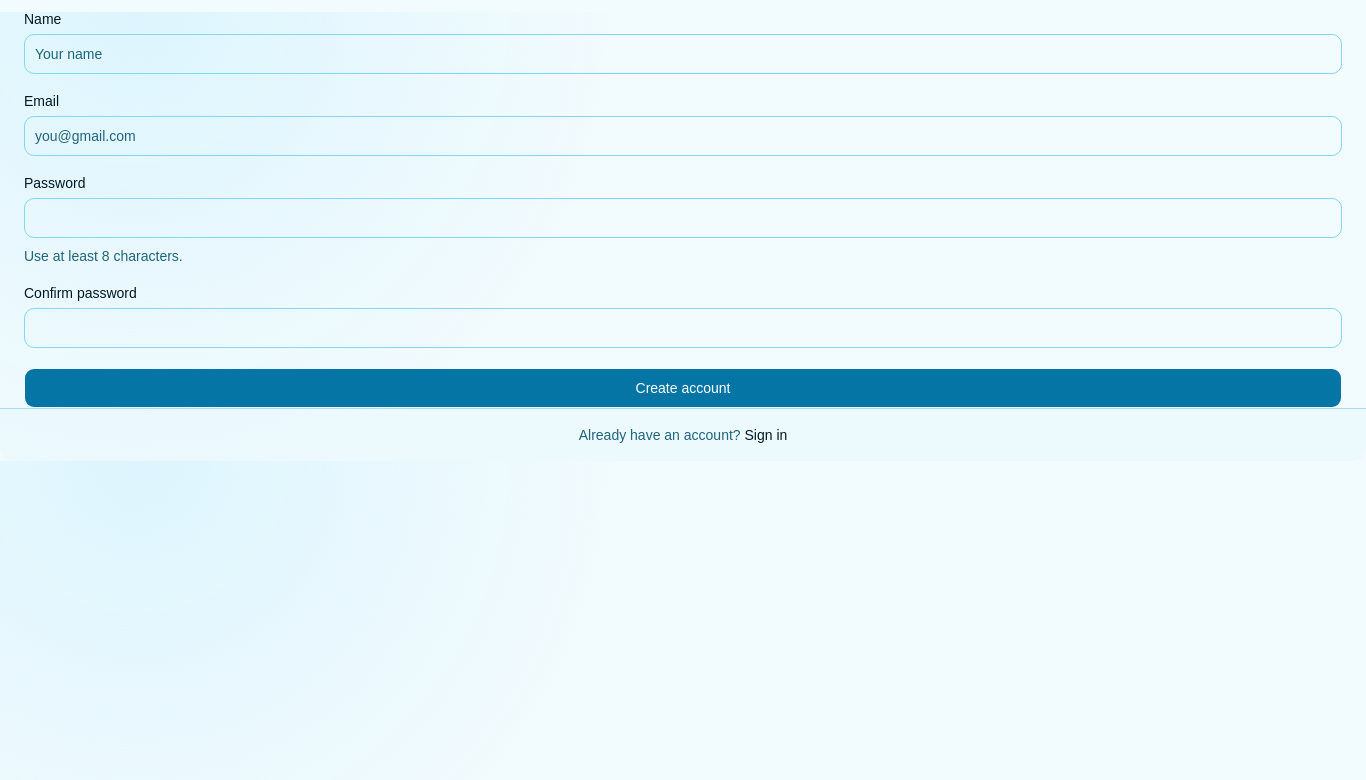
Test: AuthForm › Register mode › validates required confirm password field
Type "test@example.com" into the field labelled "Email".
click(683, 136); type("test@example.com")  # box [24, 116, 1342, 156]
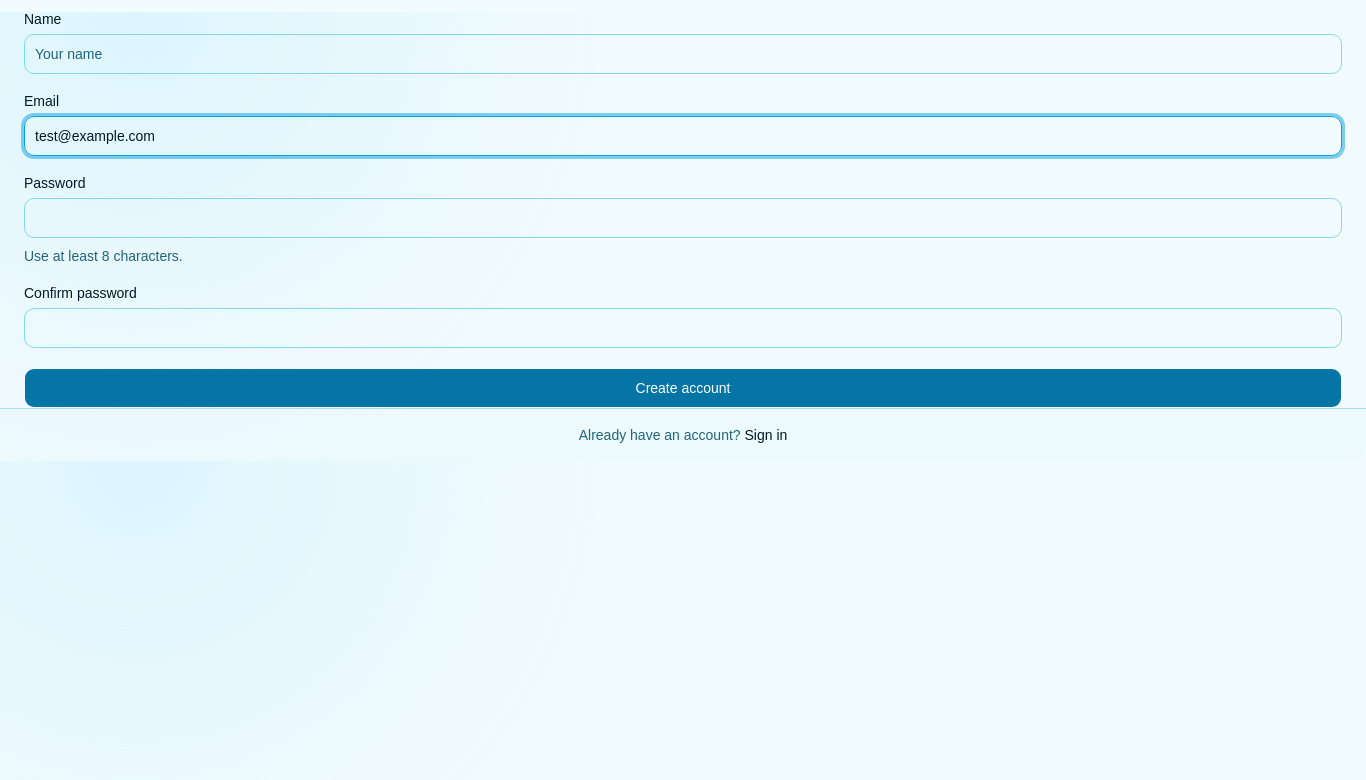
Type "password123" into the password field labelled "Password".
click(683, 218); type("password123")  # box [24, 198, 1342, 238]
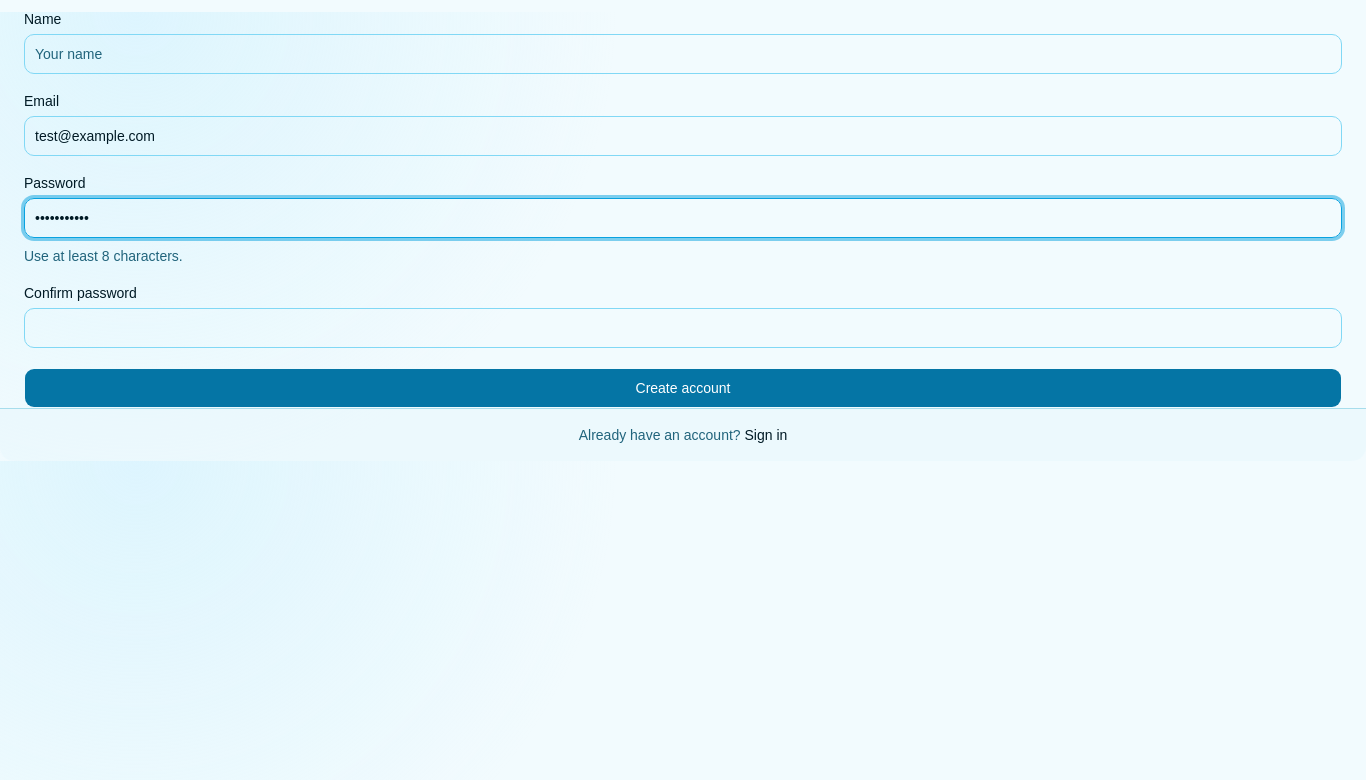
Click the button "Create account".
click(683, 388)  # box [24, 368, 1342, 408]
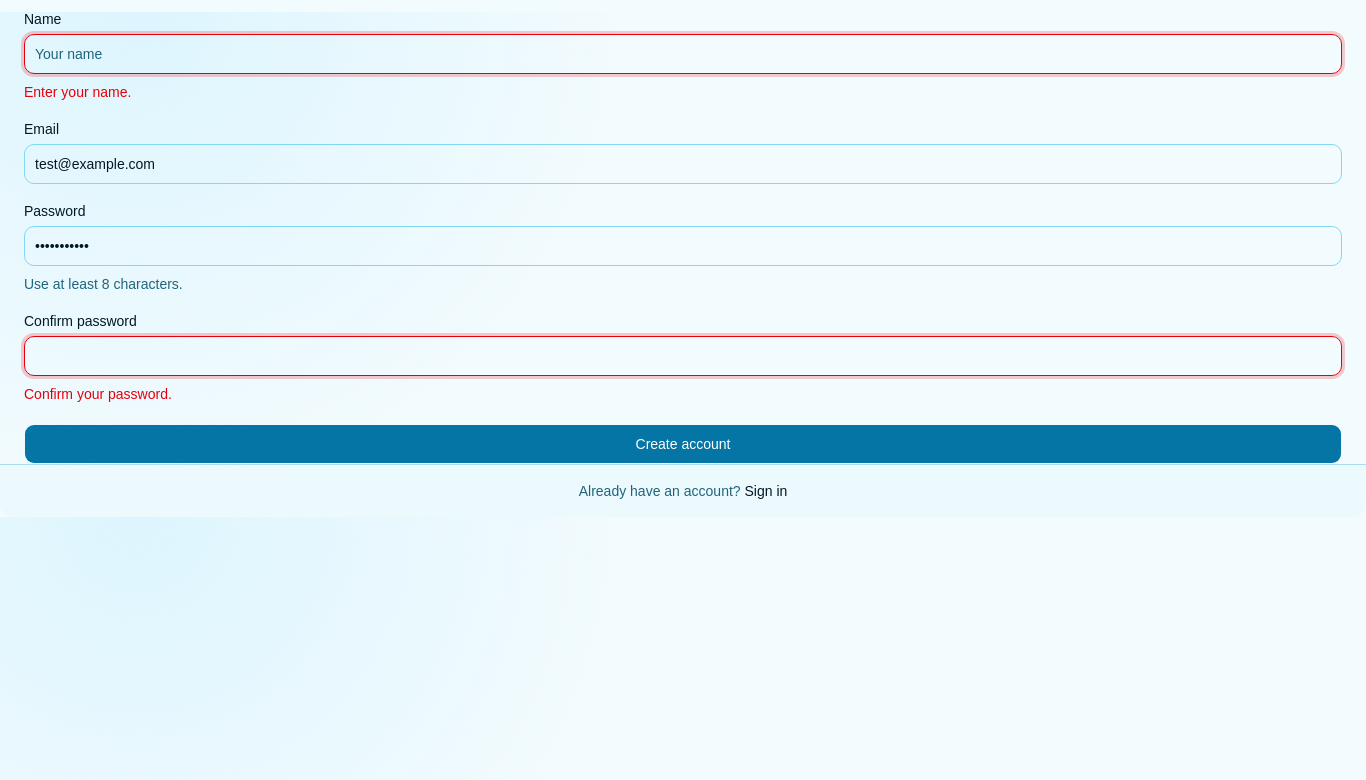
Result: the text "Confirm your password." is shown at [24, 386, 172, 402]
